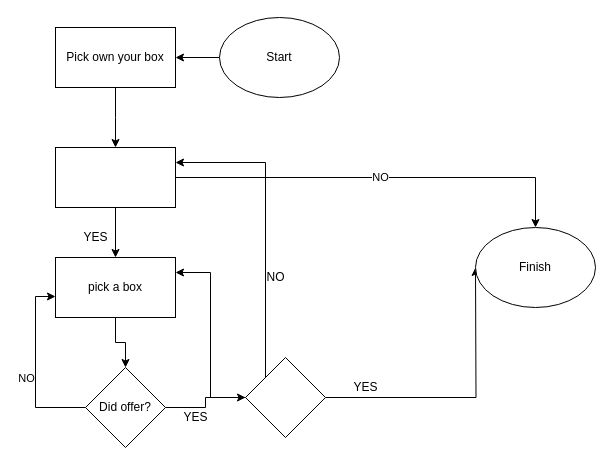
The diagram is 613 pixels wide and 465 high, and some of its shapes have lost their labels. Each missing label, with the centre of its shape:
ACCEPTED?: the point at 285,397
Box Left?: the point at 115,177
